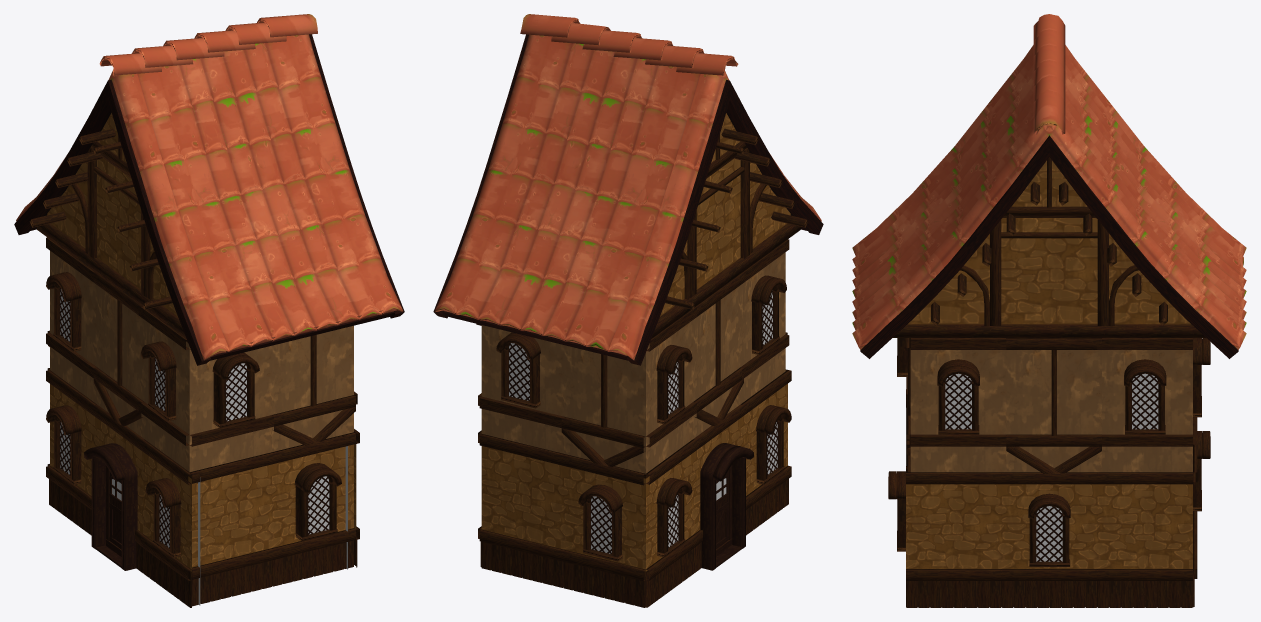
The model's file is Casa_alta.obj.
3 views of the same model, side by side, from view 1: azimuth 30°, elevation 25°; view 2: azimuth 150°, elevation 25°; view 3: azimuth 270°, elevation 25° (orthographic).
Visible parts, largest first — view 1: StaticMeshActor_301, StaticMeshActor_290, StaticMeshActor_235, StaticMeshActor_273, StaticMeshActor_241, StaticMeshActor_271, StaticMeshActor_279, StaticMeshActor_240, StaticMeshActor_277, StaticMeshActor_278, StaticMeshActor_262, StaticMeshActor_239 (+9 smaller); view 2: StaticMeshActor_301, StaticMeshActor_290, StaticMeshActor_234, StaticMeshActor_275, StaticMeshActor_246, StaticMeshActor_281, StaticMeshActor_271, StaticMeshActor_239, StaticMeshActor_277, StaticMeshActor_278, StaticMeshActor_240, StaticMeshActor_262 (+8 smaller); view 3: StaticMeshActor_301, StaticMeshActor_293, StaticMeshActor_243, StaticMeshActor_244, StaticMeshActor_274, StaticMeshActor_242, StaticMeshActor_280, StaticMeshActor_282, StaticMeshActor_286, StaticMeshActor_287, StaticMeshActor_267, StaticMeshActor_266 (+2 smaller).
Boxes of the visible parts, x1=… form: StaticMeshActor_301: x1=14, y1=14, x2=404, y2=365; StaticMeshActor_290: x1=29, y1=113, x2=186, y2=338; StaticMeshActor_235: x1=189, y1=452, x2=273, y2=606; StaticMeshActor_273: x1=272, y1=325, x2=355, y2=451; StaticMeshActor_241: x1=272, y1=432, x2=355, y2=586; StaticMeshActor_271: x1=93, y1=272, x2=144, y2=436; StaticMeshActor_279: x1=189, y1=345, x2=273, y2=471; StaticMeshActor_240: x1=141, y1=439, x2=203, y2=607; StaticMeshActor_277: x1=46, y1=237, x2=97, y2=404; StaticMeshActor_278: x1=138, y1=306, x2=189, y2=471; StaticMeshActor_262: x1=84, y1=443, x2=137, y2=570; StaticMeshActor_239: x1=46, y1=370, x2=97, y2=535; StaticMeshActor_301: x1=433, y1=14, x2=823, y2=365; StaticMeshActor_290: x1=651, y1=113, x2=807, y2=338; StaticMeshActor_234: x1=479, y1=434, x2=563, y2=587; StaticMeshActor_275: x1=561, y1=345, x2=645, y2=474; StaticMeshActor_246: x1=561, y1=454, x2=645, y2=607; StaticMeshActor_281: x1=479, y1=325, x2=563, y2=453; StaticMeshActor_271: x1=693, y1=272, x2=744, y2=438; StaticMeshActor_239: x1=646, y1=439, x2=696, y2=607; StaticMeshActor_277: x1=646, y1=307, x2=696, y2=473; StaticMeshActor_278: x1=738, y1=239, x2=789, y2=405; StaticMeshActor_240: x1=740, y1=370, x2=791, y2=535; StaticMeshActor_262: x1=700, y1=443, x2=753, y2=570; StaticMeshActor_301: x1=852, y1=14, x2=1246, y2=358; StaticMeshActor_293: x1=893, y1=157, x2=1205, y2=337; StaticMeshActor_243: x1=906, y1=466, x2=1001, y2=607; StaticMeshActor_244: x1=1097, y1=472, x2=1192, y2=607; StaticMeshActor_274: x1=1006, y1=338, x2=1101, y2=473; StaticMeshActor_242: x1=1001, y1=472, x2=1097, y2=607; StaticMeshActor_280: x1=910, y1=338, x2=1006, y2=472; StaticMeshActor_282: x1=1097, y1=338, x2=1192, y2=472; StaticMeshActor_286: x1=937, y1=359, x2=979, y2=434; StaticMeshActor_287: x1=1124, y1=359, x2=1166, y2=434; StaticMeshActor_267: x1=1028, y1=493, x2=1070, y2=566; StaticMeshActor_266: x1=888, y1=471, x2=905, y2=551.
Bounding box in the file's own units: 559 × 1171 × 825.
